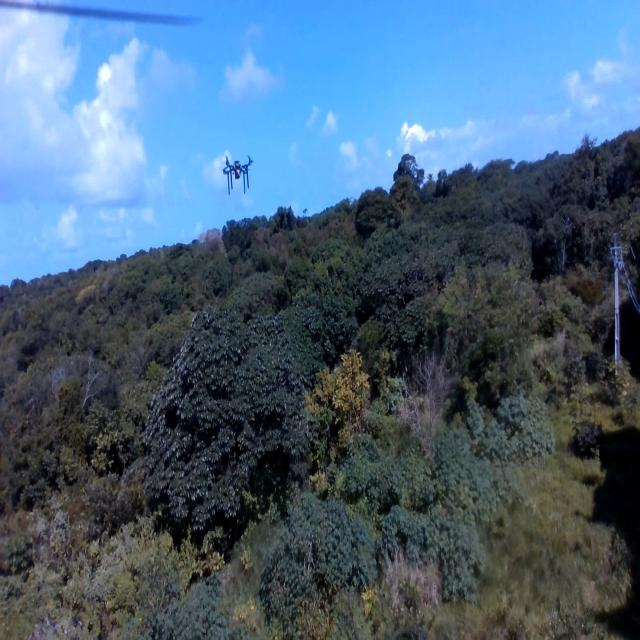-uav-: (215, 148, 260, 200)
